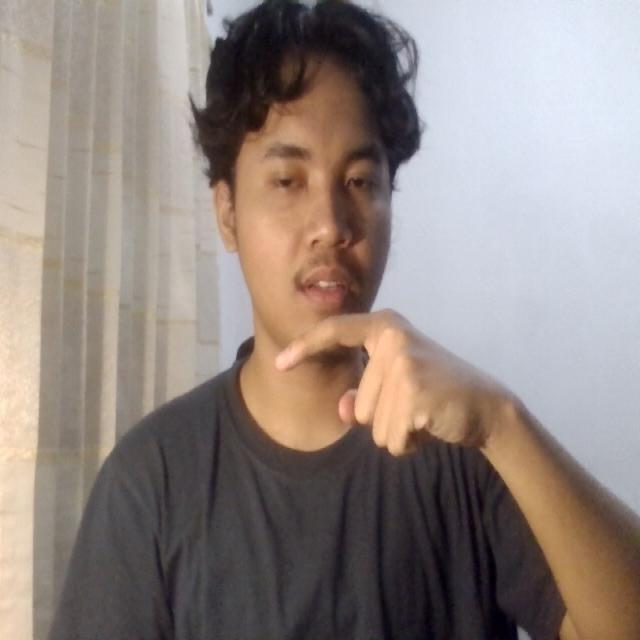N: (253, 277, 477, 487)
